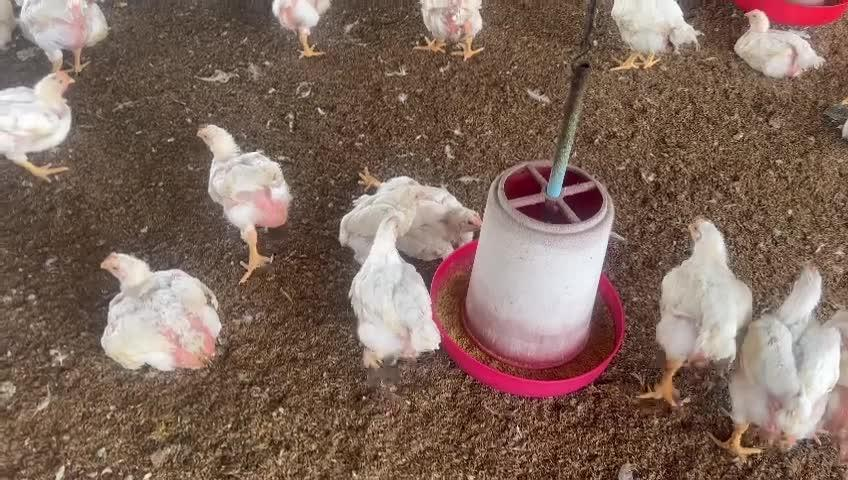AbNormal: (98, 251, 221, 372), (346, 163, 476, 248), (734, 8, 822, 77)
Normal: (722, 259, 834, 462), (642, 217, 751, 403), (194, 123, 295, 280), (353, 214, 431, 371), (1, 67, 78, 183), (18, 7, 110, 74), (610, 3, 690, 71), (415, 1, 486, 62), (266, 0, 335, 62)
